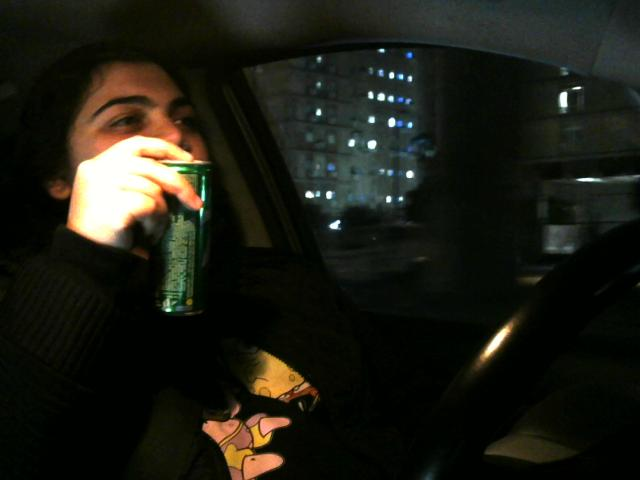Drinking: (44, 63, 219, 318)
